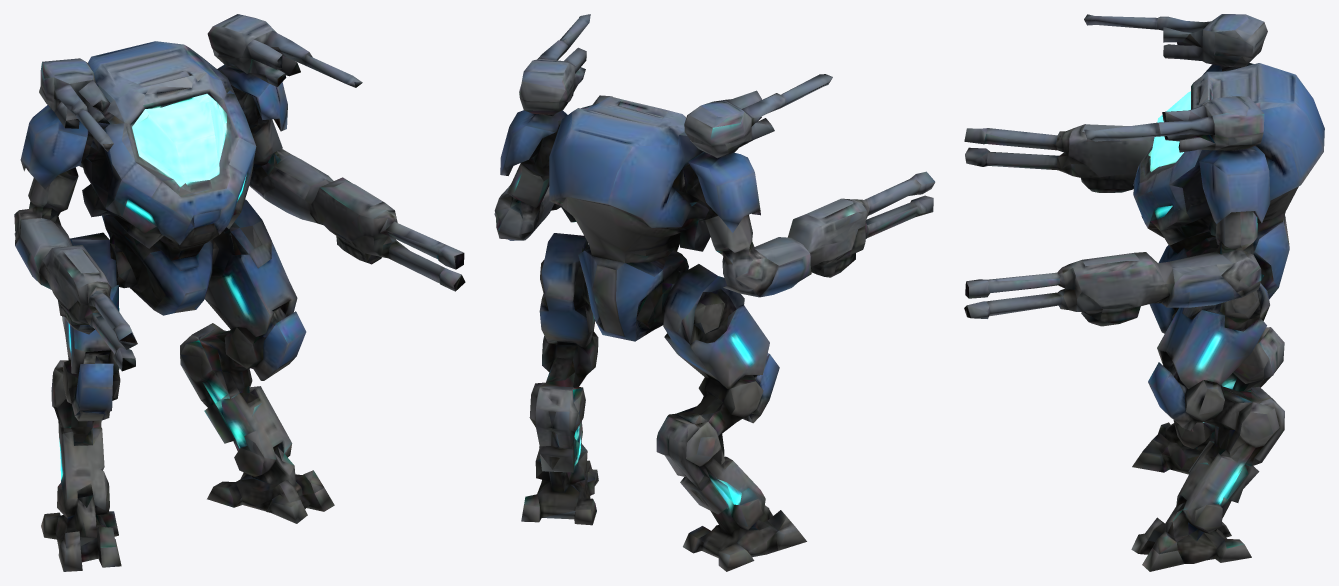
File: unit_titan.glb
3 renders of one model, left to right at view 1: azimuth 30°, elevation 25°; view 2: azimuth 150°, elevation 25°; view 3: azimuth 270°, elevation 25°, orthographic. The views are drawn at different scales.
Visible parts, largest first — view 1: unit_titan; view 2: unit_titan; view 3: unit_titan.
Boxes of the visible parts, x1,y1,x2,y2 form: unit_titan: [14, 14, 465, 571]; unit_titan: [494, 14, 935, 571]; unit_titan: [964, 14, 1324, 571].
Size of the model in its own units: 0.7813 by 1 by 0.7309.
Materials: 1 (1 with a texture image).
